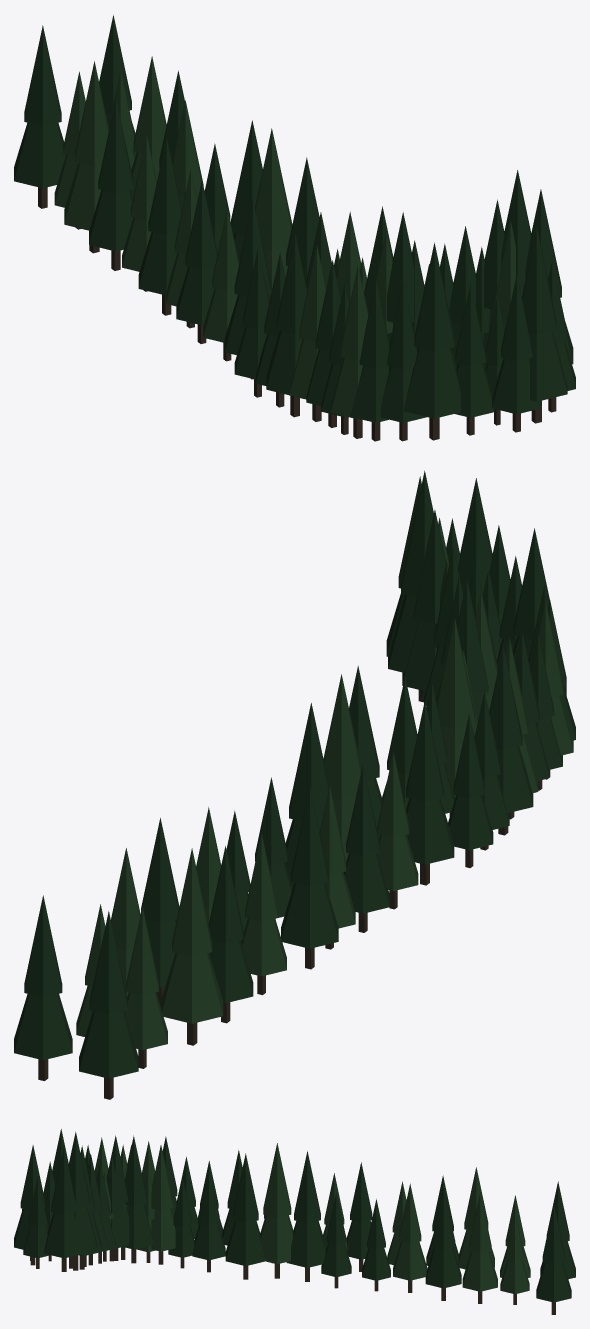
Rendered from forest_edge_20.glb.
3 renders of one model, top to bottom at view 1: azimuth 30°, elevation 25°; view 2: azimuth 150°, elevation 25°; view 3: azimuth 270°, elevation 25°, orthographic. The views are drawn at different scales.
Parts seen in each view (by area): view 1: chunk_0_0; view 2: chunk_0_0; view 3: chunk_0_0.
Boxes of the visible parts, x1,y1,x2,y2 form: chunk_0_0: [14, 15, 575, 441]; chunk_0_0: [14, 470, 575, 1099]; chunk_0_0: [14, 1129, 575, 1314].
Size of the model in its own units: 28.11 by 36.37 by 98.67.
